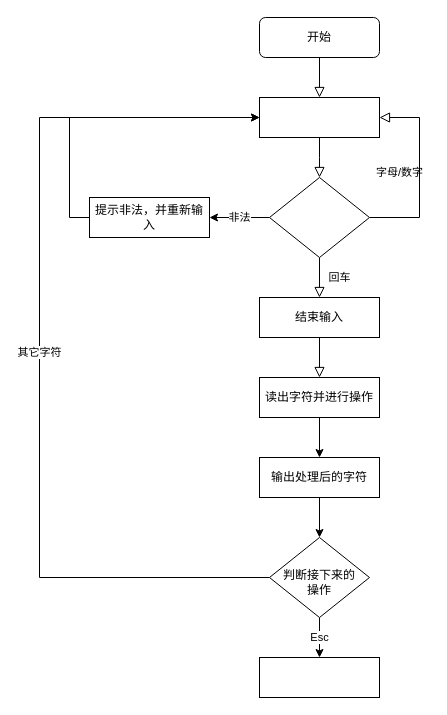
This 447x715 diagram has some shape labels left out. Each missing label, with the centre of its shape:
判断输入的字符: pixel 319 217
回到主函数: pixel 319 677
获取输入: pixel 319 117
